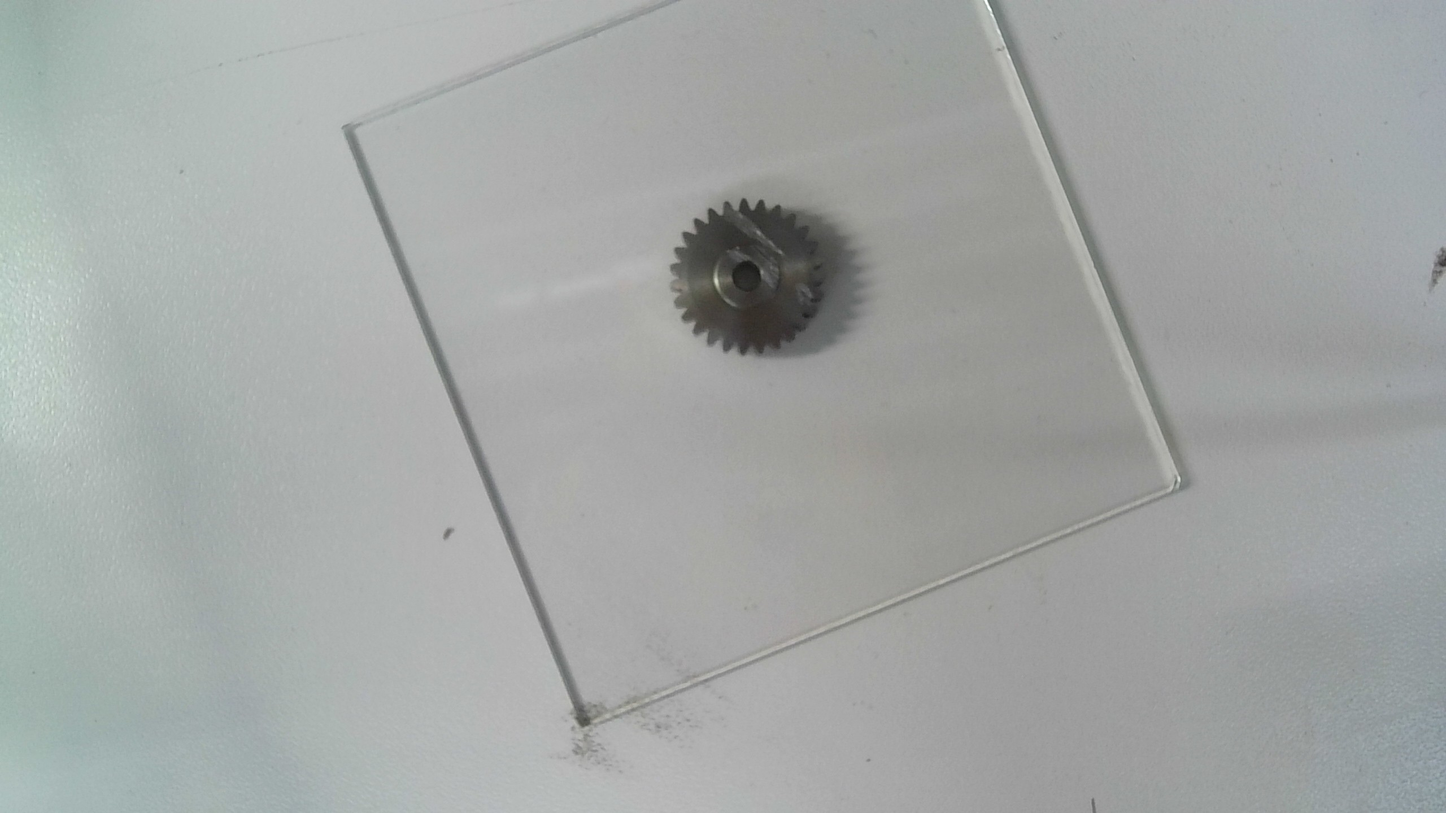gear: (666, 196, 826, 360)
